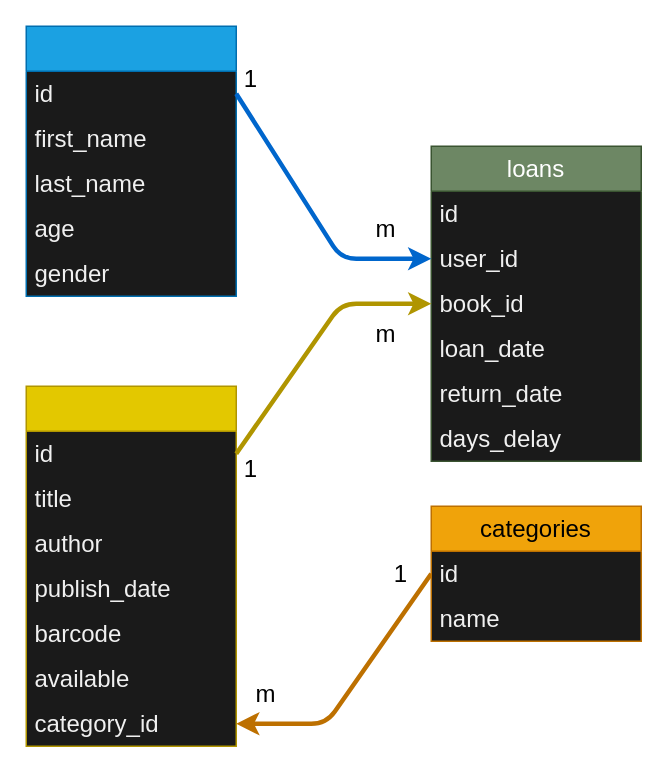
This 668x773 diagram has some shape labels left out. The box of each missing label's shape, as (x1, y1, x2, y2) in pixels:
books: (25, 385, 236, 746)
Users: (25, 25, 236, 296)
